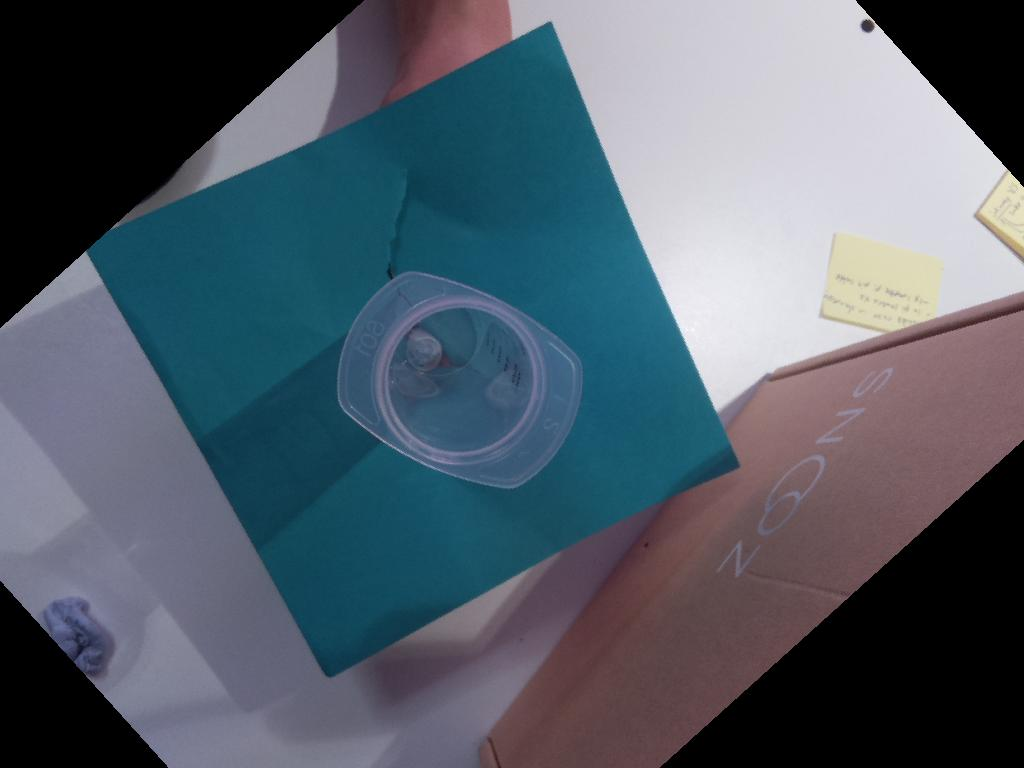clean: (336, 273, 583, 489)
